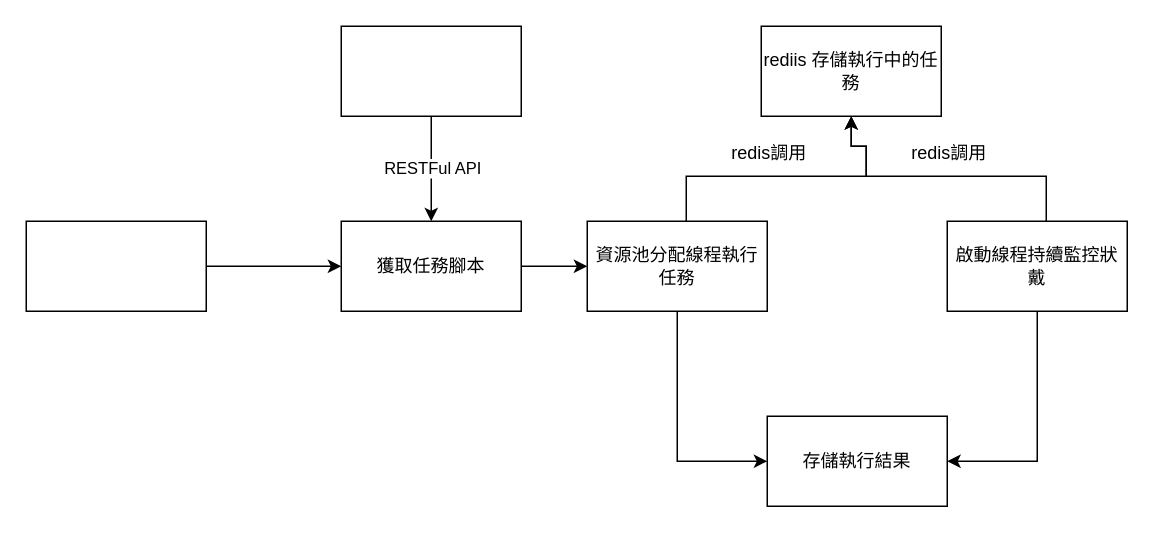
This 1154x533 diagram has some shape labels left out. The centre of each missing label's shape, as x and y in pixels:
任務管理服務: [430,70]
開始執行任務: [115,265]
